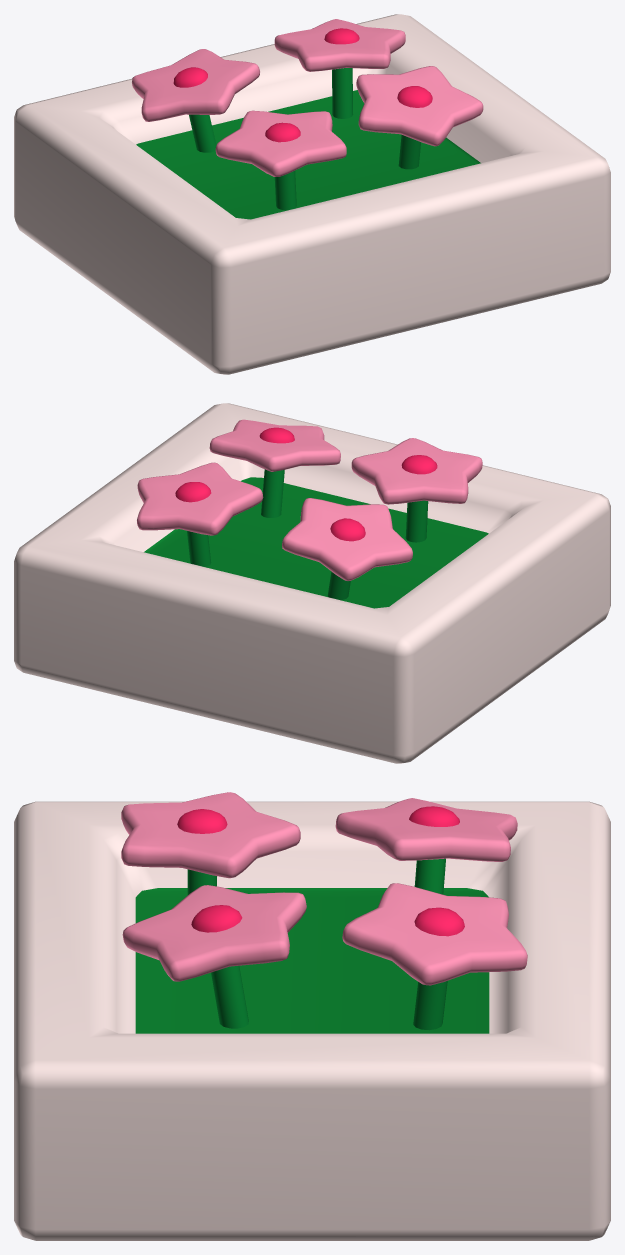
File: Farm_9_Garden_with_Flowers_2.glb
The picture shows the model from 3 angles, top to bottom: view 1: azimuth 30°, elevation 25°; view 2: azimuth 150°, elevation 25°; view 3: azimuth 270°, elevation 25°; orthographic projection. The views are drawn at different scales.
Visible parts, largest first — view 1: Farm_9_Garden_with_Flowers_2; view 2: Farm_9_Garden_with_Flowers_2; view 3: Farm_9_Garden_with_Flowers_2.
Boxes of the visible parts, <box> form: Farm_9_Garden_with_Flowers_2: <box>14,14,610,374</box>; Farm_9_Garden_with_Flowers_2: <box>14,403,610,763</box>; Farm_9_Garden_with_Flowers_2: <box>14,792,610,1240</box>.
Size of the model in its own units: 0.849 by 0.3623 by 0.7755.
Materials: 1 (1 with a texture image).
